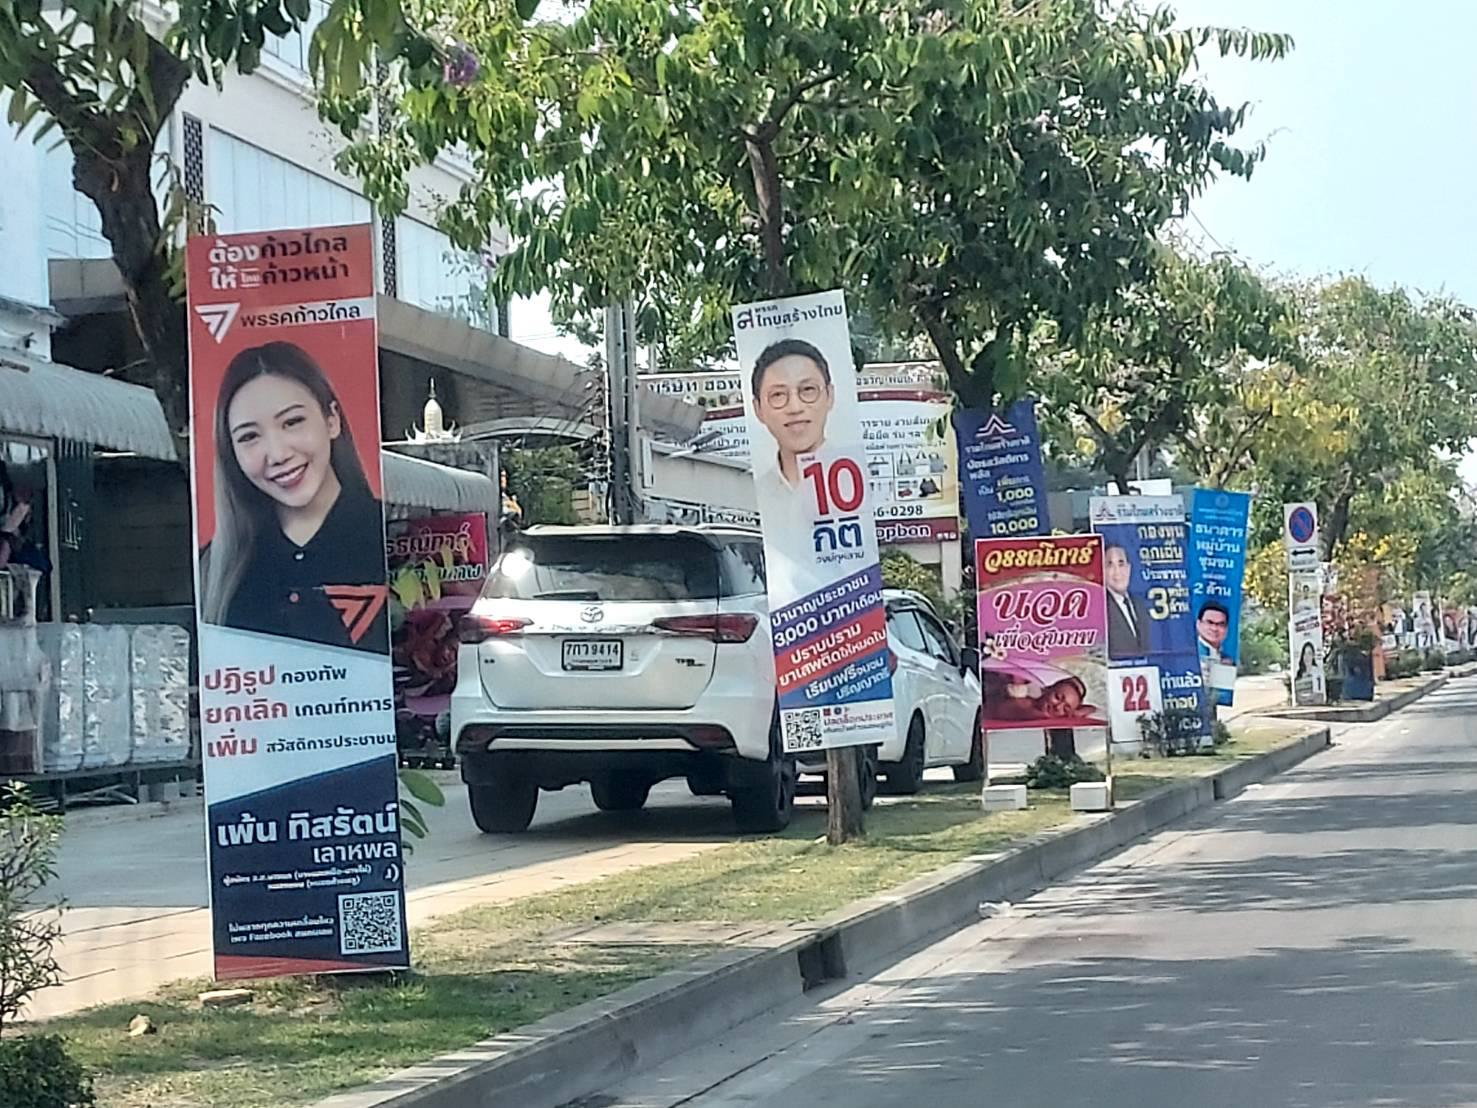Banner: (186, 222, 404, 981), (727, 305, 893, 753), (1092, 493, 1196, 730), (1167, 484, 1251, 689), (1285, 578, 1330, 716)
